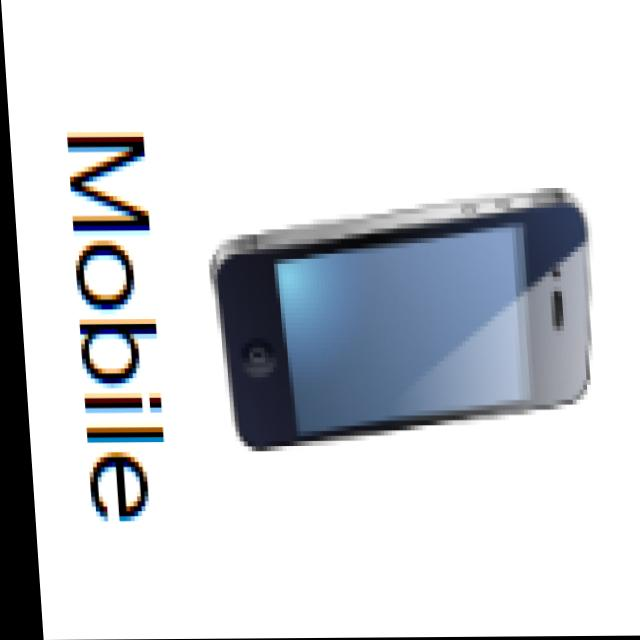Client: (151, 138, 640, 575)
